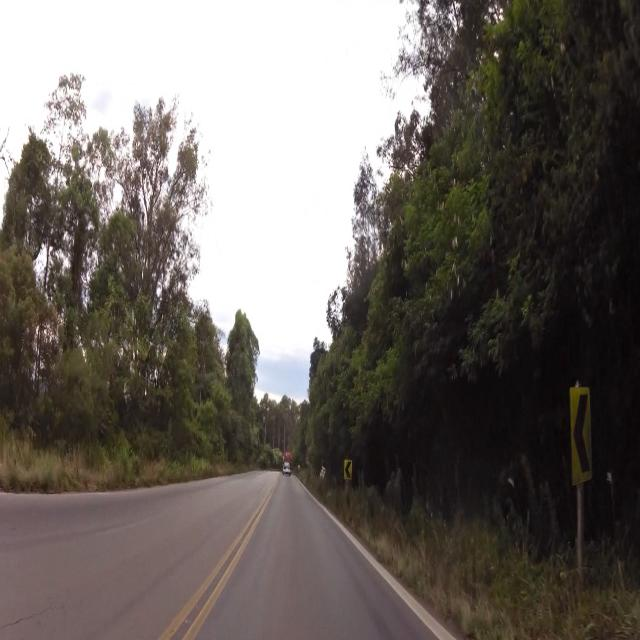Del: (568, 383, 594, 485), (344, 454, 352, 486)
